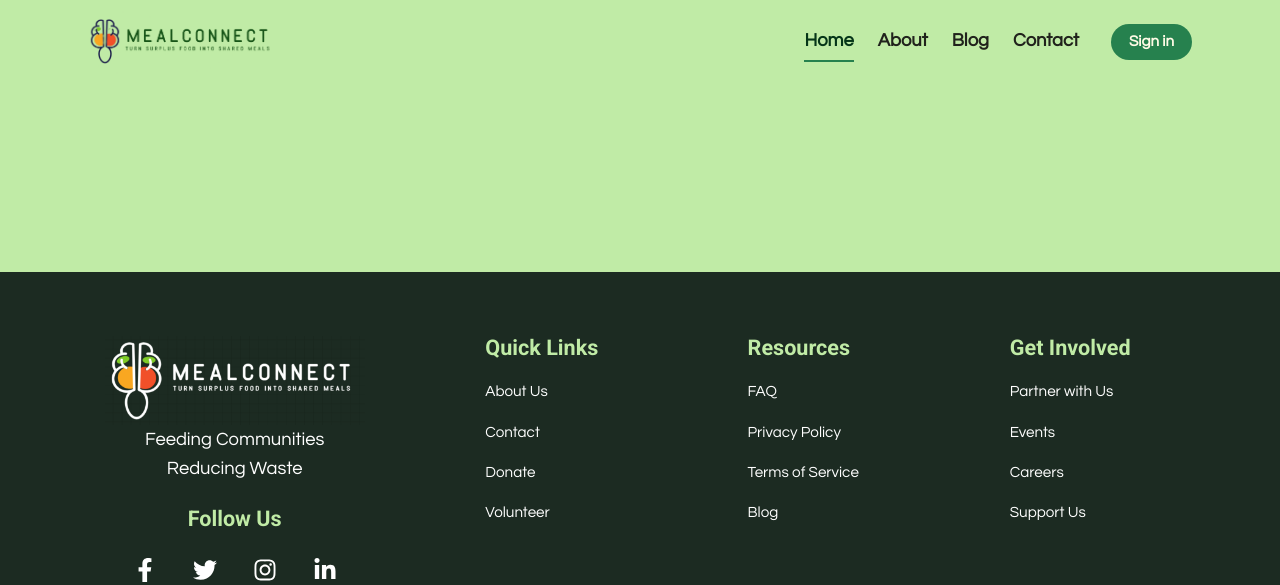
Test case: footer navigation › footer link Donate resolves to a real page
(page scrolled)
Click the link "Donate". click: x=510, y=472
box: [485,465,535,480]
(page scrolled)
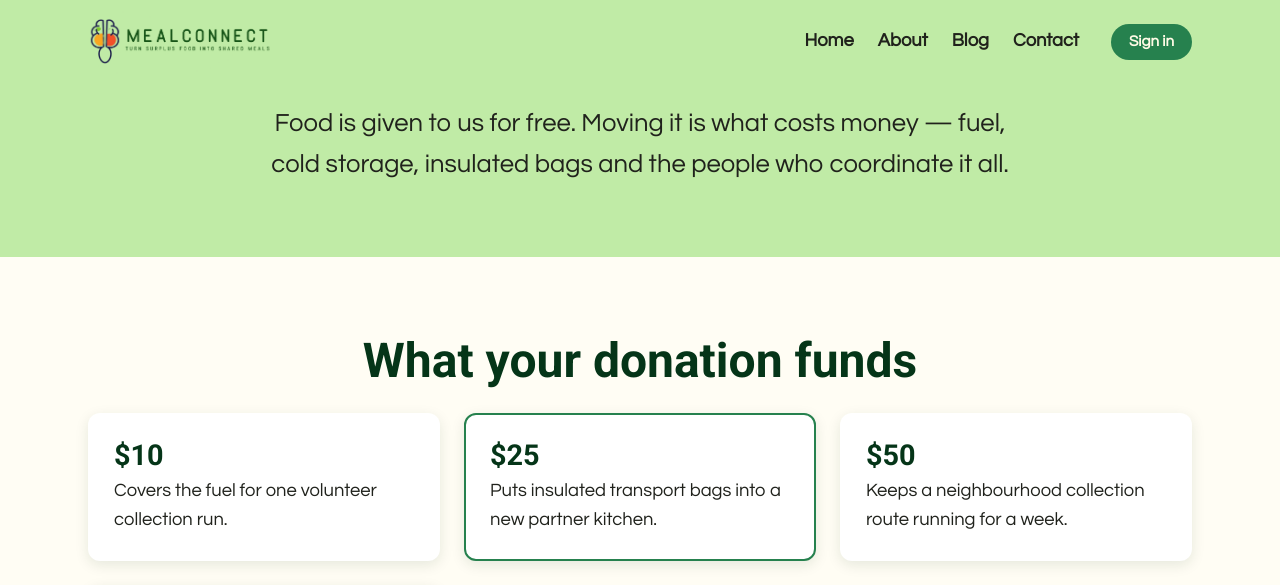
Result: the heading "What your donation funds" is shown at [363,332,917,389]
